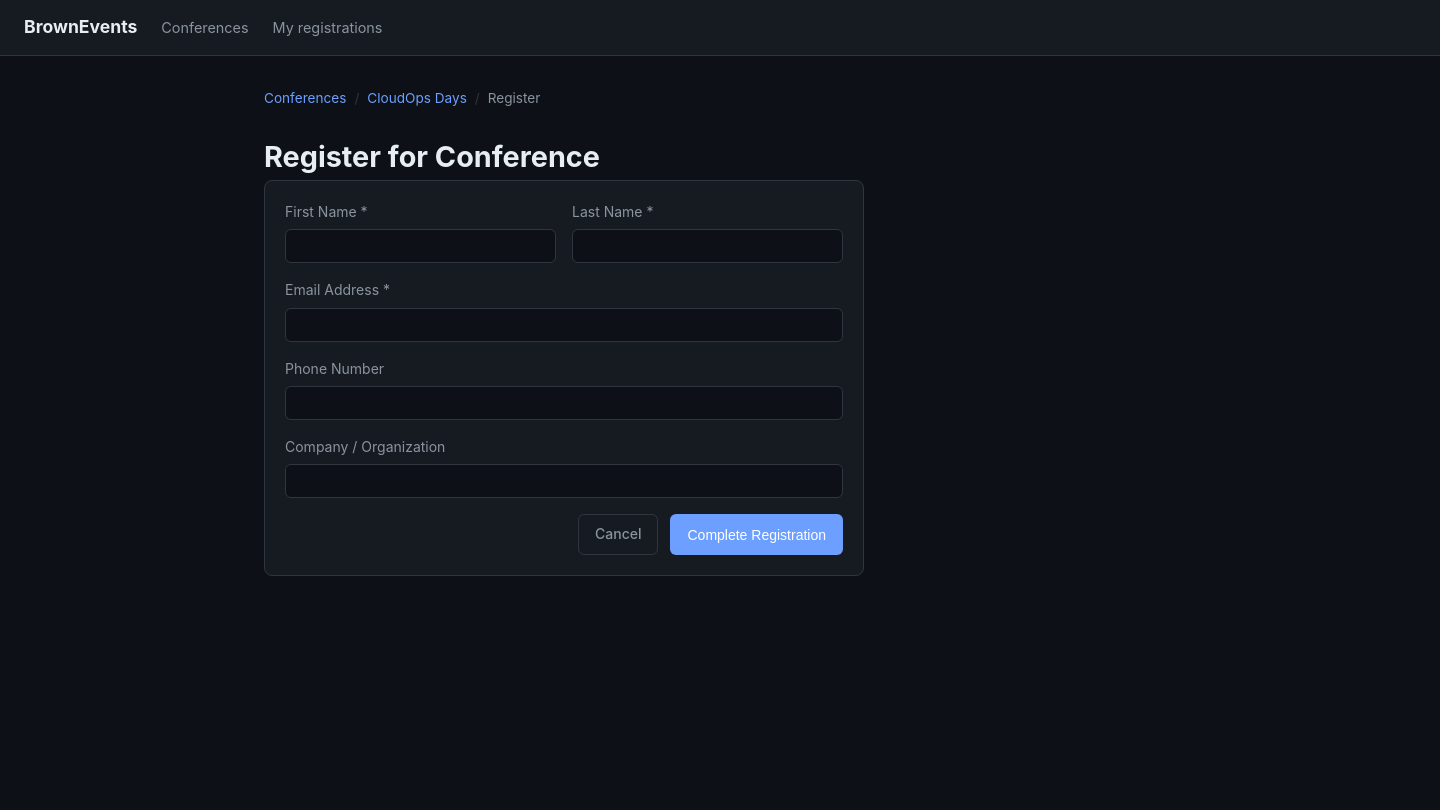
Scenario: registration page opened by URL › shows the readable 409 message after submit
Expected: the button "Complete Registration" is shown, 670,514 -> 843,555
Type "Ann" into the field below "First Name *" at [420, 246], box 285,229 -> 556,263
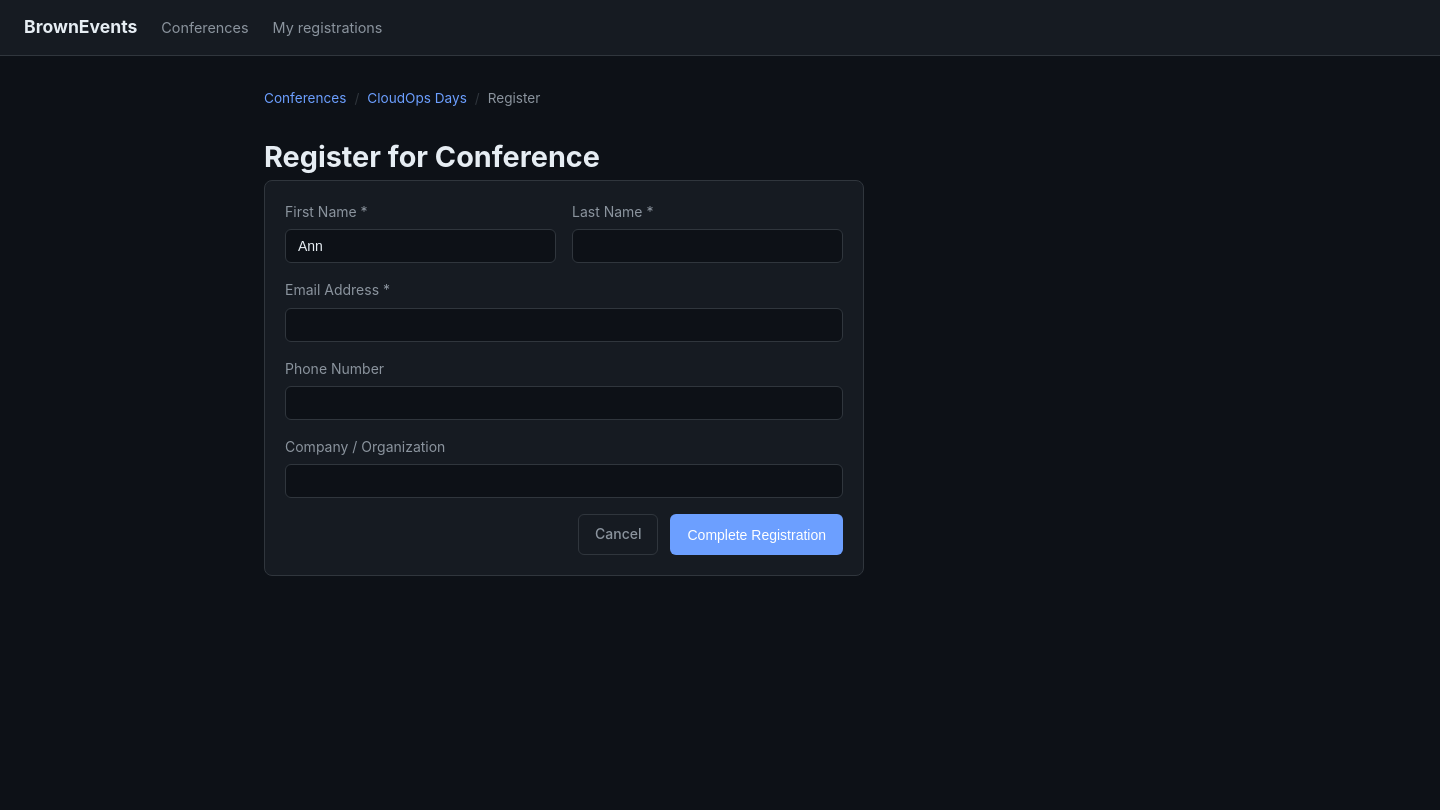
Type "Lee" into the field below "Last Name *" at [708, 246], box 572,229 -> 843,263
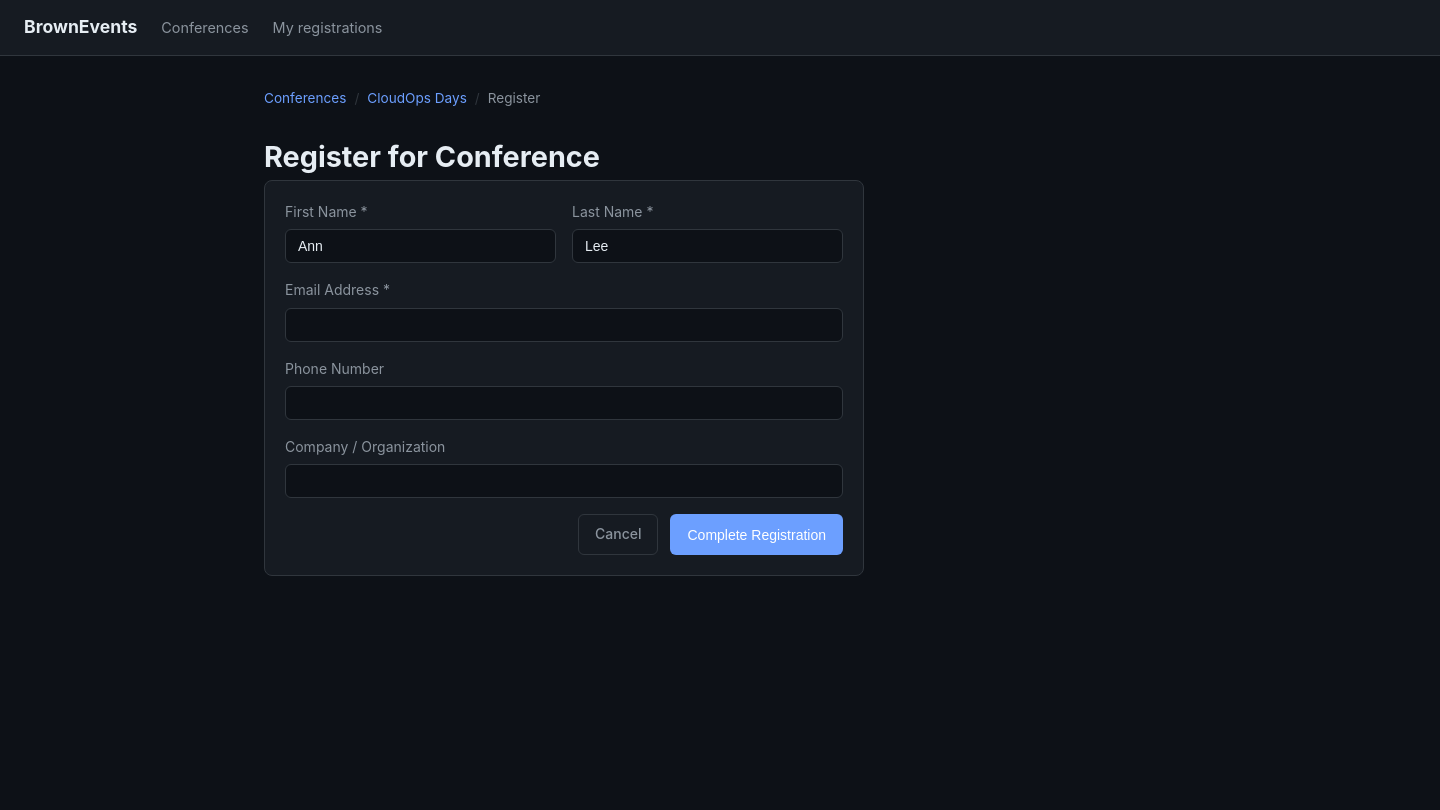
Type "ann@x.example" into the field below "Email Address *" at [564, 325], box 285,308 -> 843,342
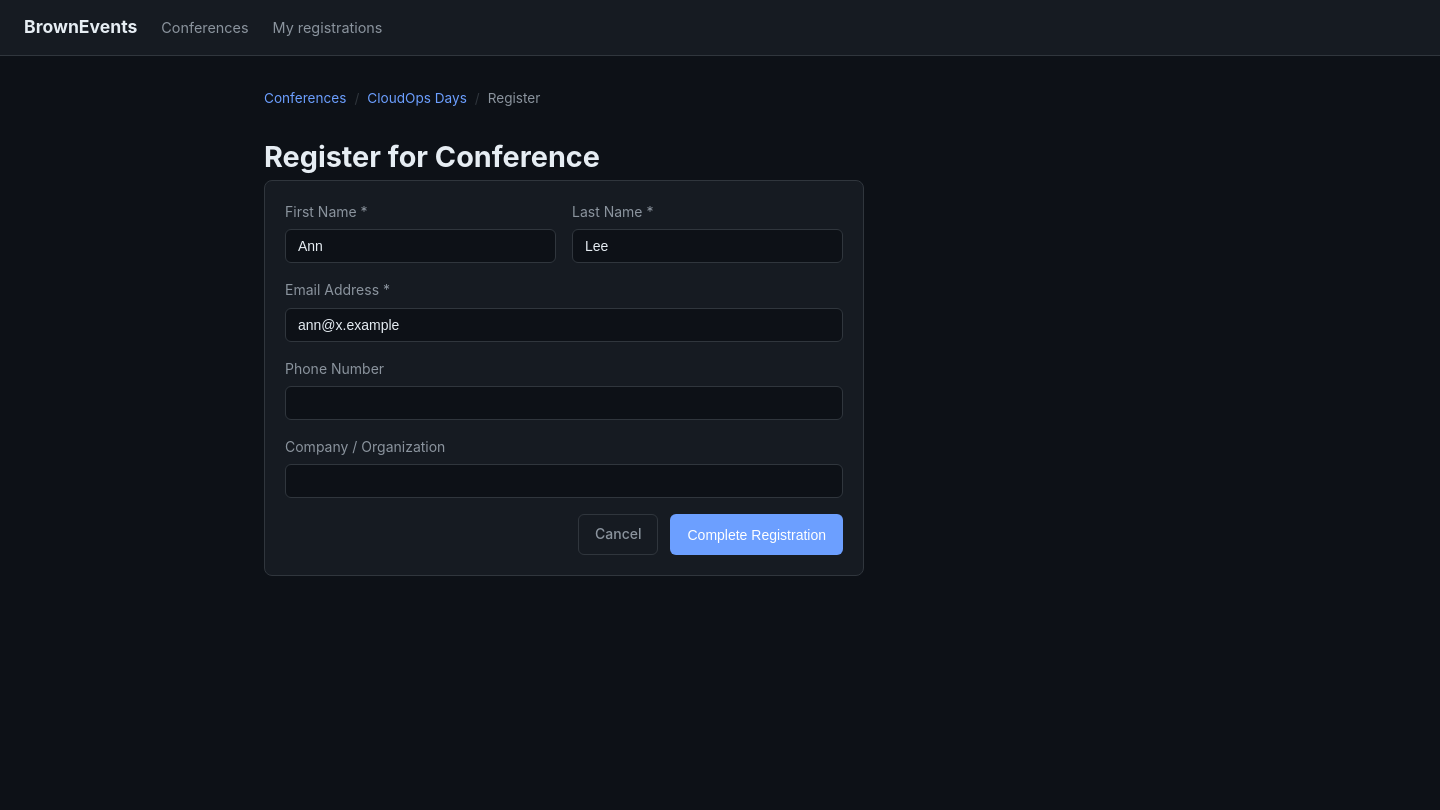
Click the button "Complete Registration" at [757, 535], box 670,514 -> 843,555
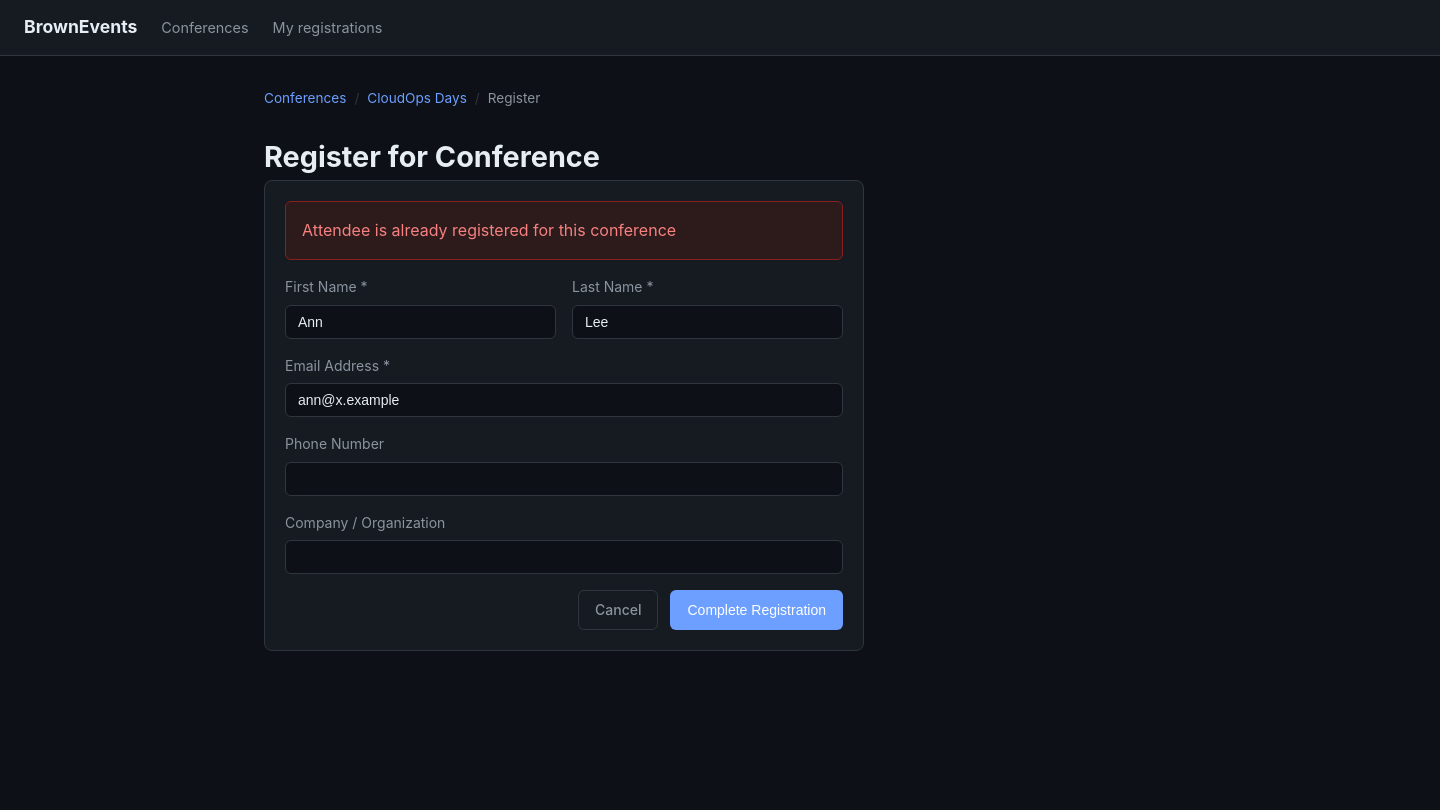
Expected: the text "Attendee is already registered for this conference" is shown, 302,220 -> 676,240
